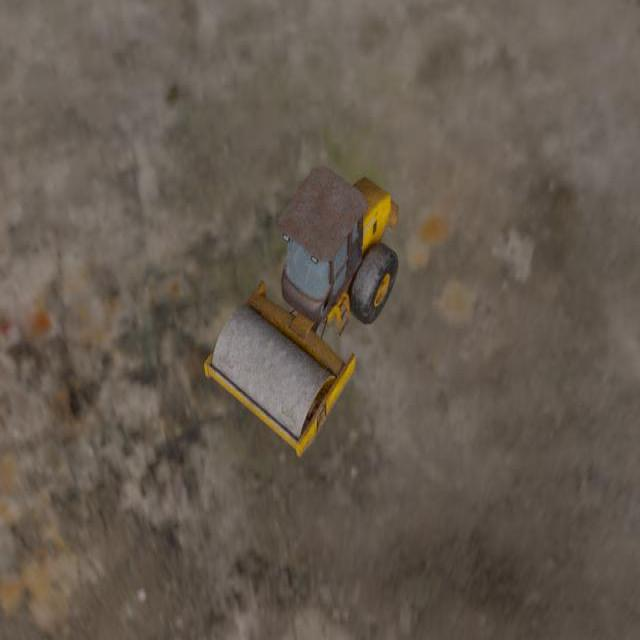Roller: (203, 164, 399, 457)
